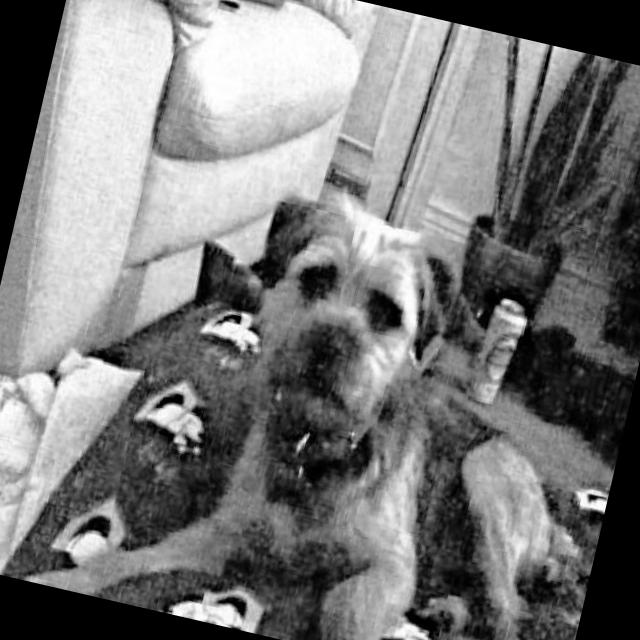Dog: (5, 129, 640, 640)
